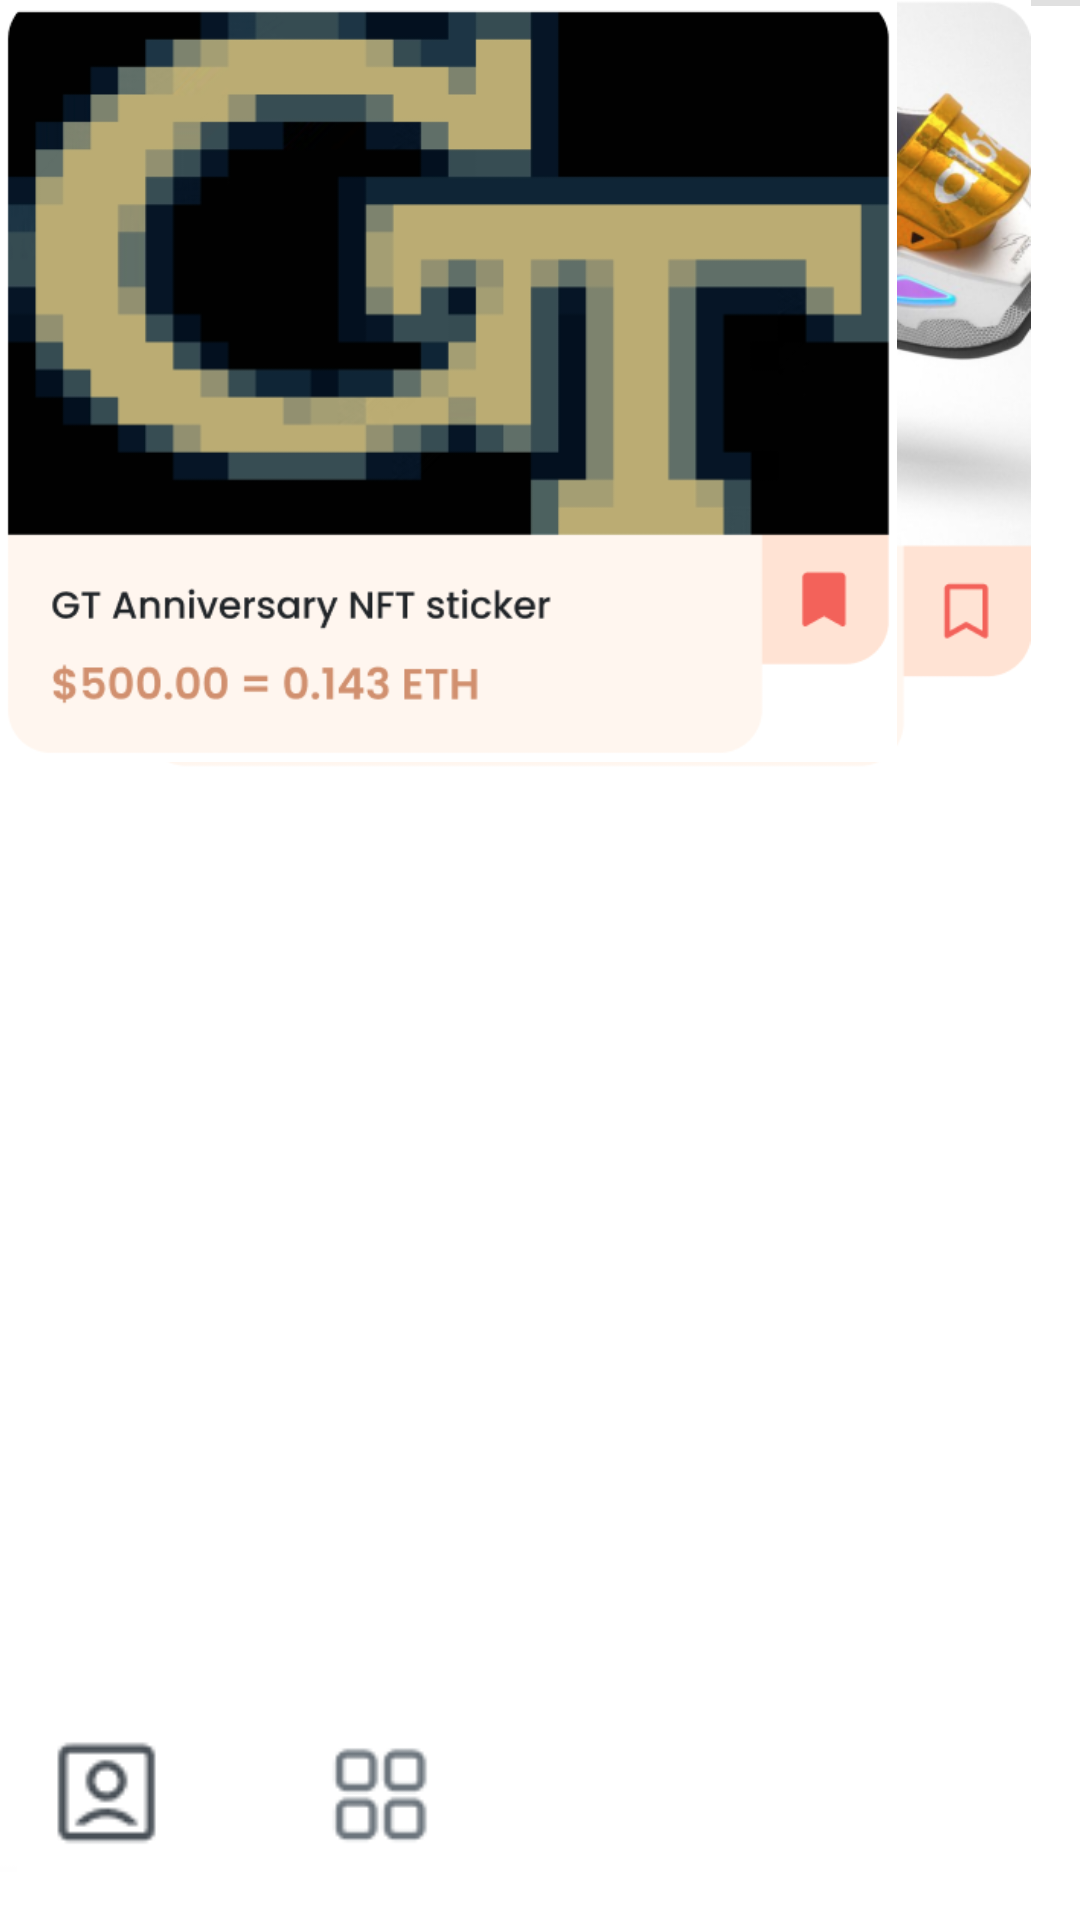

Named icons in this screenshot (1080 × 1920) and their centers, point (x, y):
categoryunselected: point (381, 1794)
